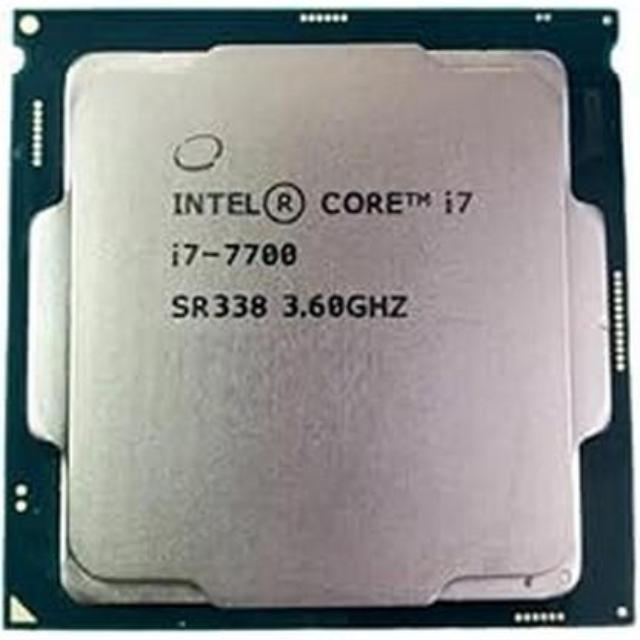CPU: (15, 14, 632, 626)
